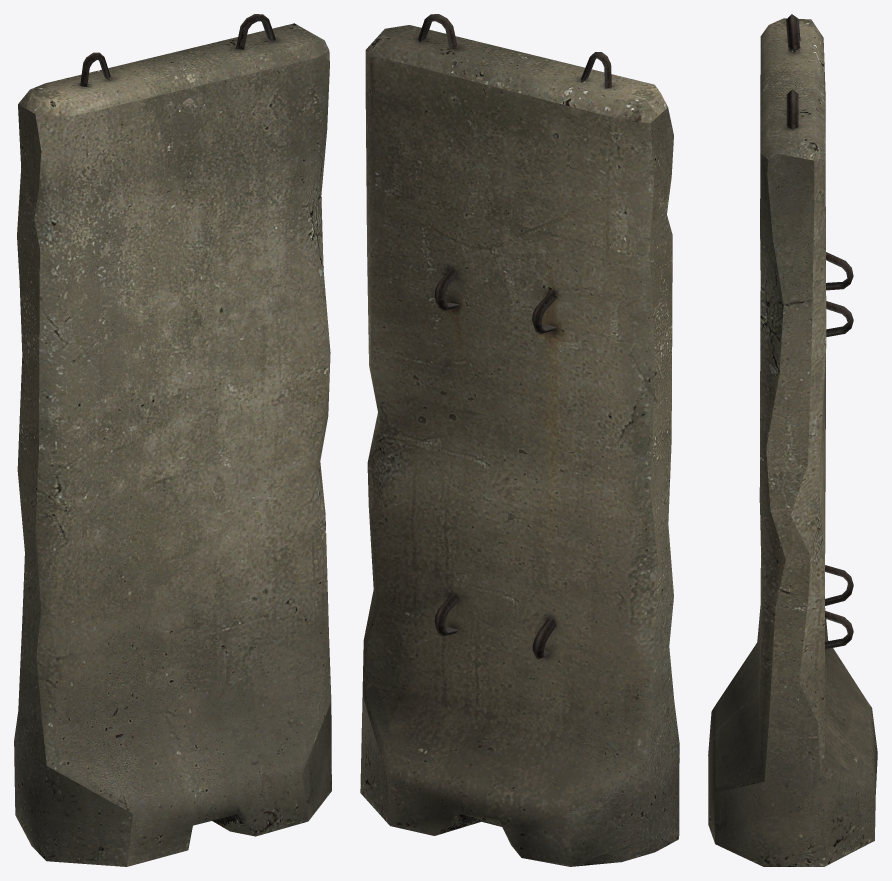
The model's file is t_wall_barrier.glb.
3 views of the same model, side by side, from view 1: azimuth 30°, elevation 25°; view 2: azimuth 150°, elevation 25°; view 3: azimuth 270°, elevation 25° (orthographic). The views are drawn at different scales.
Visible parts, largest first — view 1: ir_twall_01; view 2: ir_twall_01; view 3: ir_twall_01.
Part boxes in pixels (box(x1,y1,x2,y2)): ir_twall_01: box(14, 14, 331, 866); ir_twall_01: box(360, 14, 679, 866); ir_twall_01: box(708, 14, 877, 866).
Bounding box in the file's own units: 77.87 × 203 × 41.81.
1 material, 1 textured.
